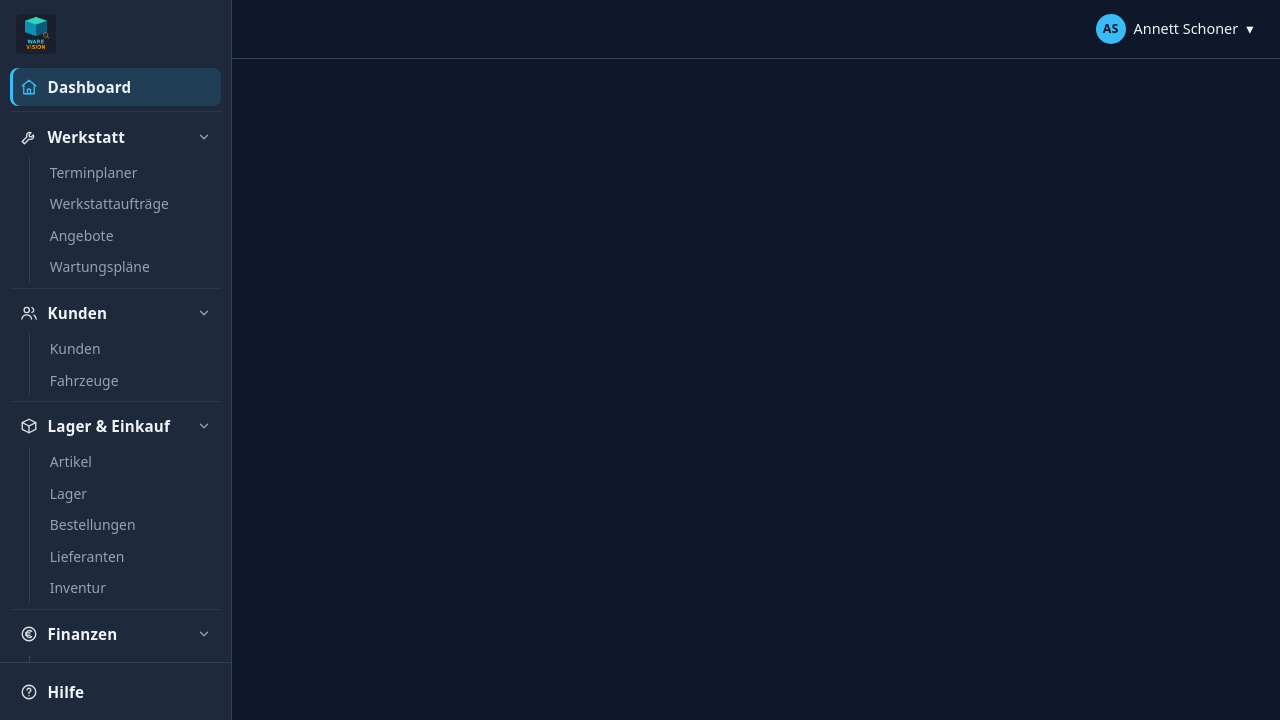
Konto-Menü › Passwort ändern öffnet den Dialog
Click the button "AS Annett Schoner ▾": coordinates (1177, 29) [1090,8,1264,50]
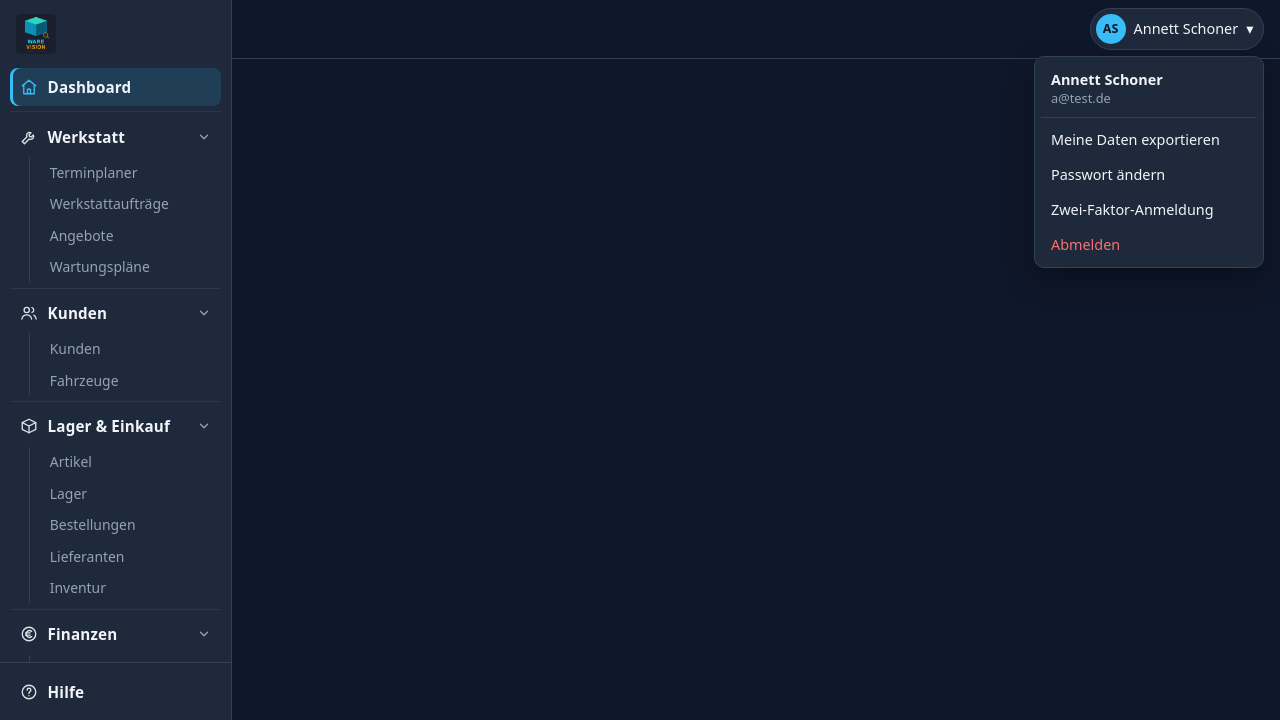
Click the menu item "Passwort ändern": coordinates (1149, 174) [1041,157,1257,192]
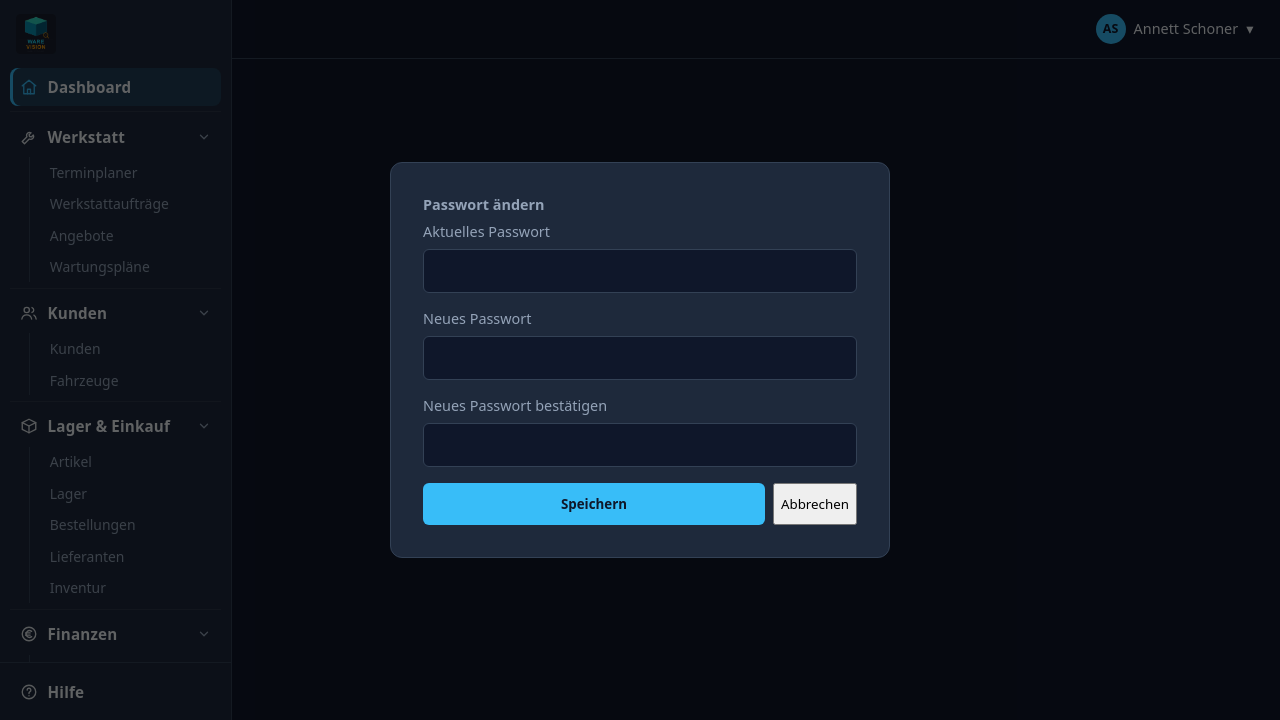
Check: the text "Aktuelles Passwort" is shown, box [423,222,550,241]
